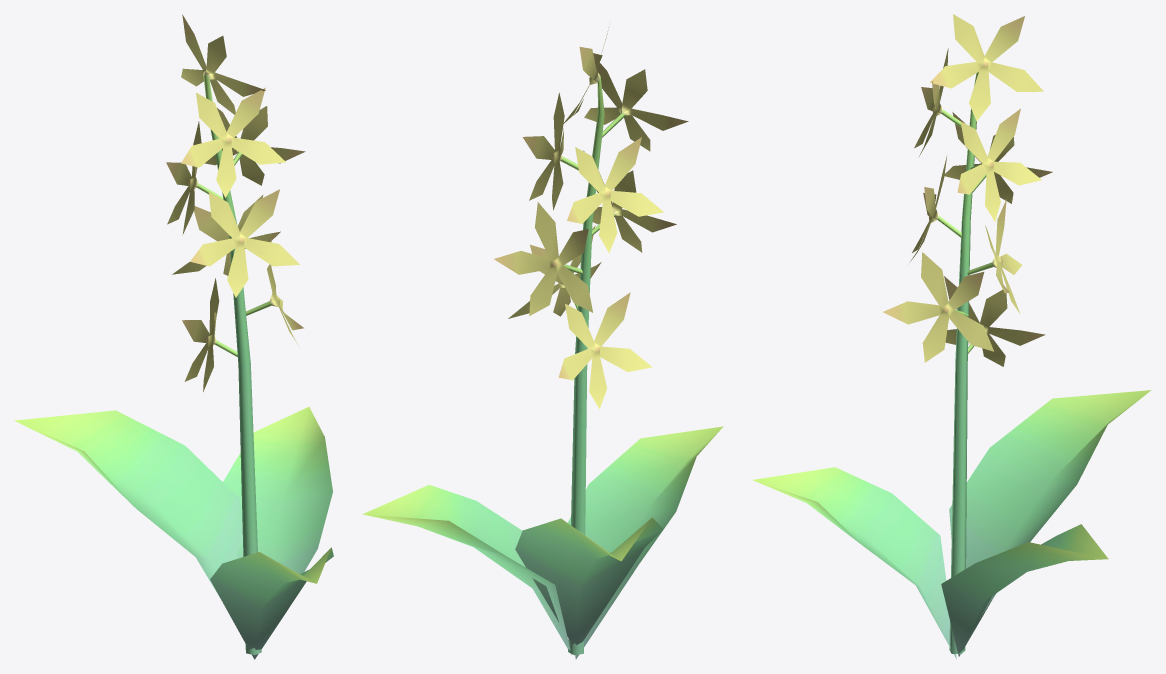
File: Flower.022_Base_Material_0.fbx
3 views of the same model, side by side, from view 1: azimuth 30°, elevation 25°; view 2: azimuth 150°, elevation 25°; view 3: azimuth 270°, elevation 25° (orthographic). The views are drawn at different scales.
Parts seen in each view (by area): view 1: Flower.022_Base_Material_0_export; view 2: Flower.022_Base_Material_0_export; view 3: Flower.022_Base_Material_0_export.
Boxes of the visible parts, x1,y1,x2,y2 form: Flower.022_Base_Material_0_export: (14, 14, 333, 659); Flower.022_Base_Material_0_export: (362, 26, 723, 659); Flower.022_Base_Material_0_export: (753, 14, 1151, 659).
Bounding box in the file's own units: 1.63 × 3.61 × 2.08.
